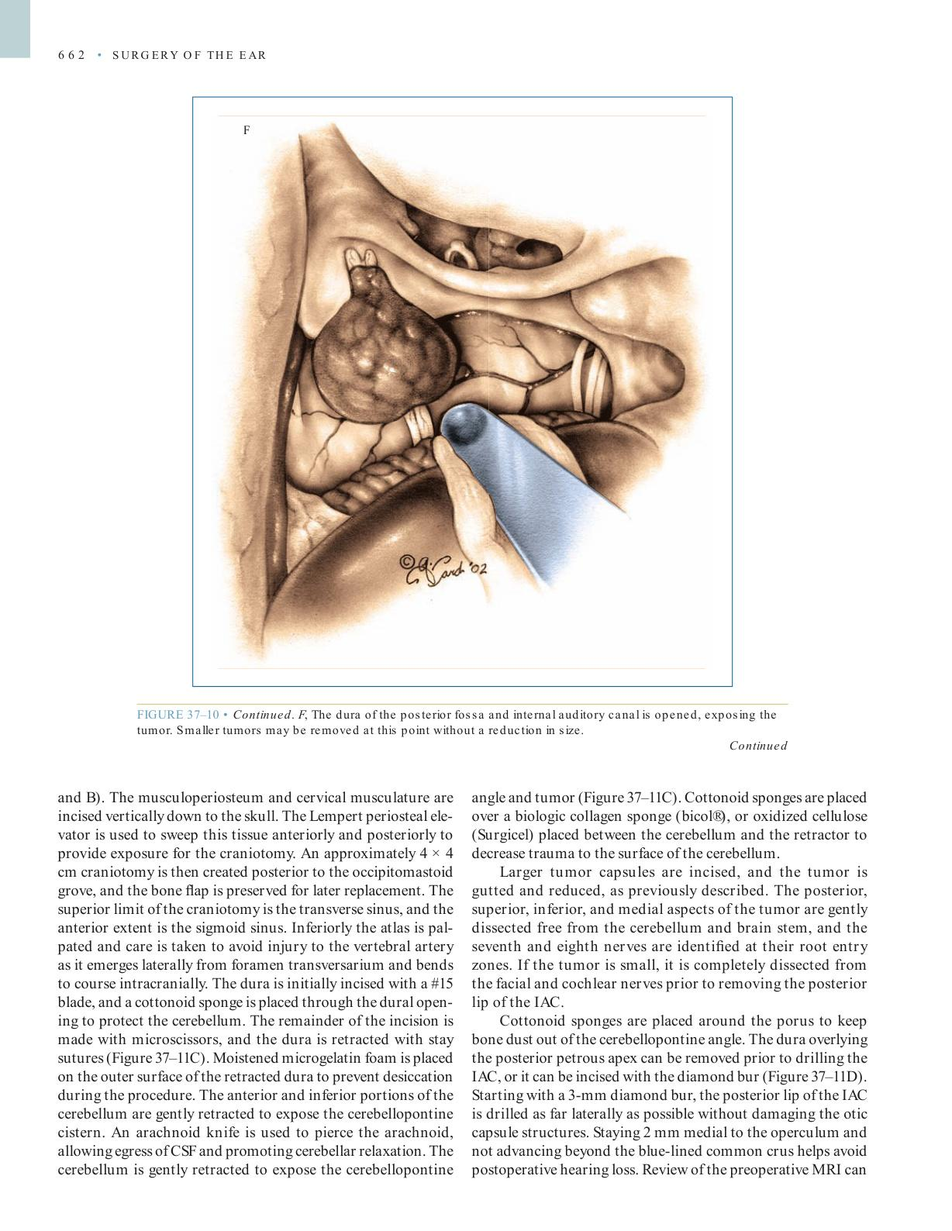caption: (135, 707, 778, 739), (242, 123, 252, 136)
header: (112, 49, 267, 62)
image: (206, 117, 716, 665)
text: (467, 787, 869, 1179), (55, 787, 456, 1178)
